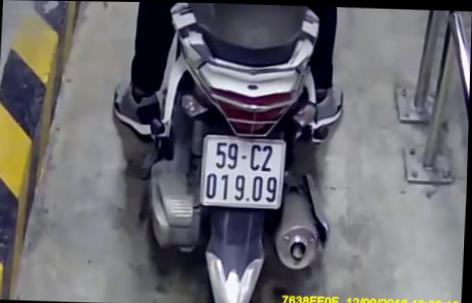LP: (197, 128, 289, 211)
